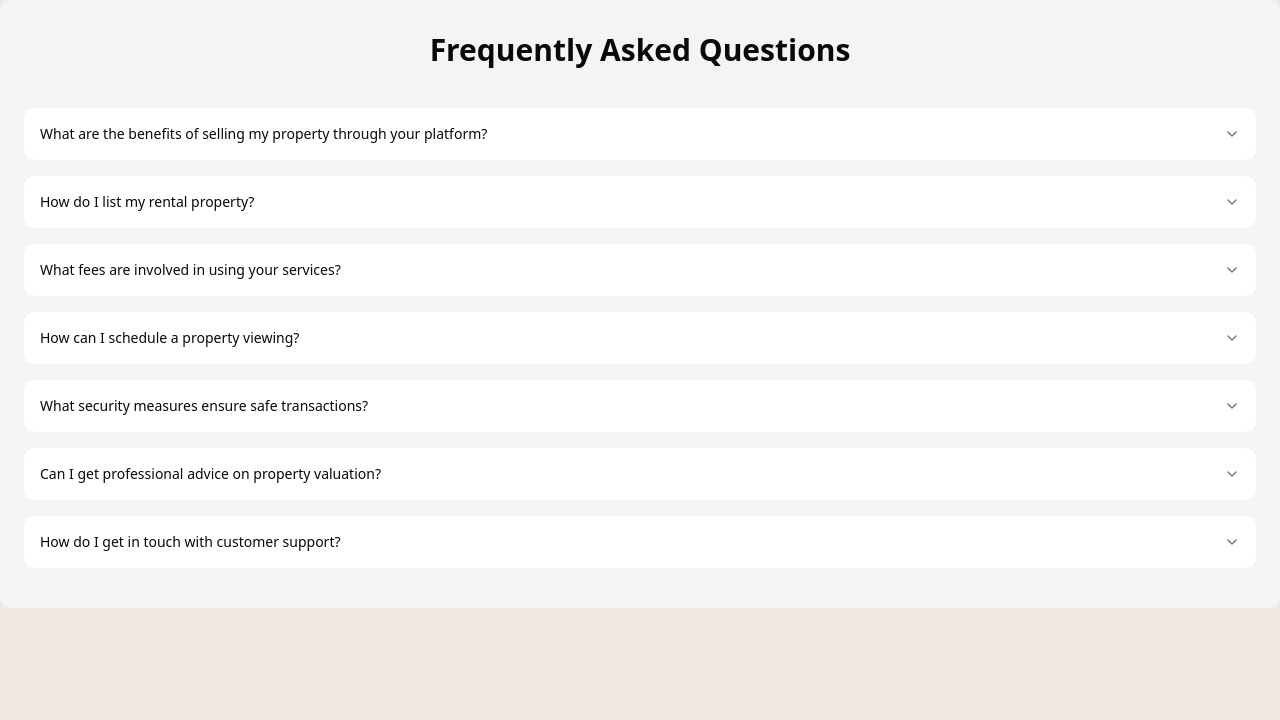
Test: FAQPage › ensures only one accordion item can be open at a time
Open first item
Click the button "What are the benefits of selling my property through your platform?" at (264, 134), box 24,108 -> 1256,160
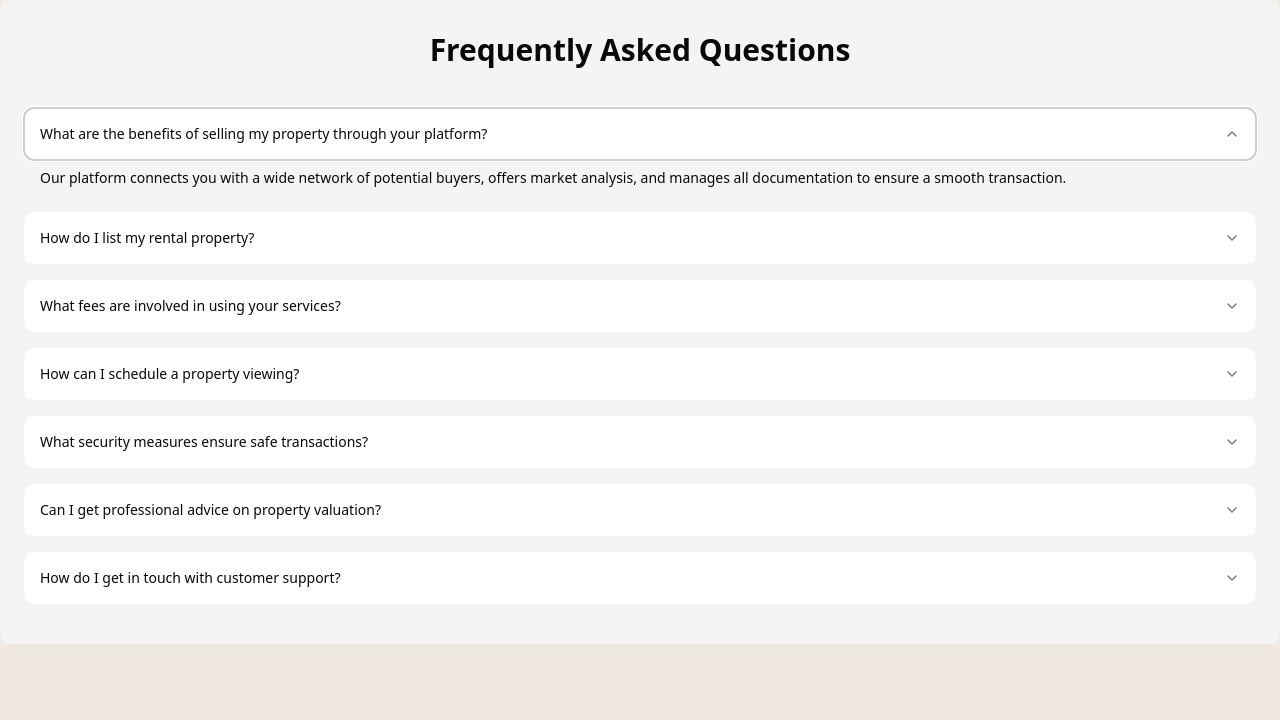
Open second item
Click the button "How do I list my rental property?" at (147, 238), box 24,212 -> 1256,264
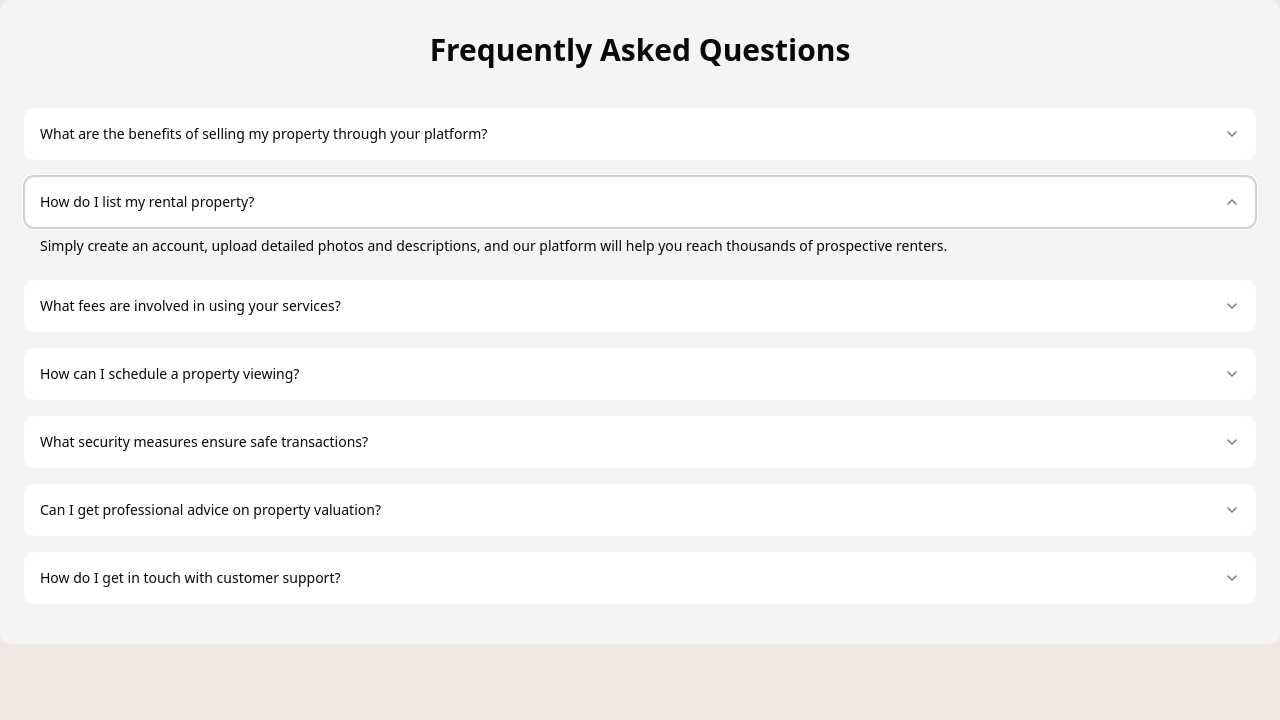
Expected: the button "What are the benefits of selling my property through your platform?" is collapsed, 24,108 -> 1256,160
Expected: the button "How do I list my rental property?" is expanded, 24,176 -> 1256,228
